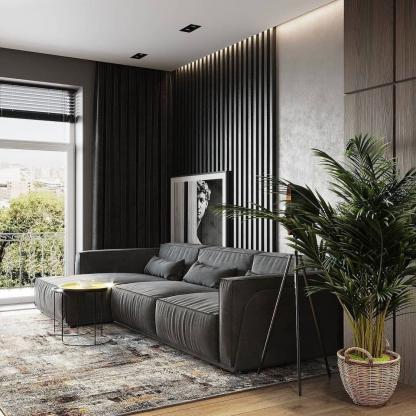Curtains: (97, 64, 160, 250)
Window: (3, 72, 88, 310)
